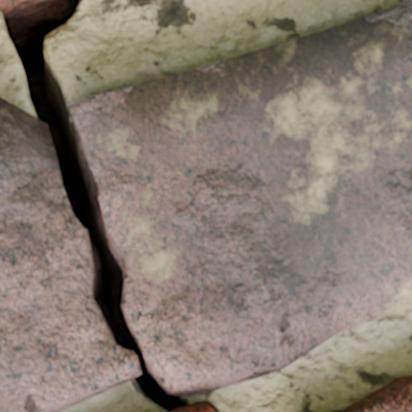brick: (334, 376, 411, 411), (172, 402, 218, 411), (0, 0, 32, 9)
broken_brick: (69, 0, 411, 396), (0, 96, 139, 411)
crack: (0, 0, 189, 411), (138, 18, 377, 90)
